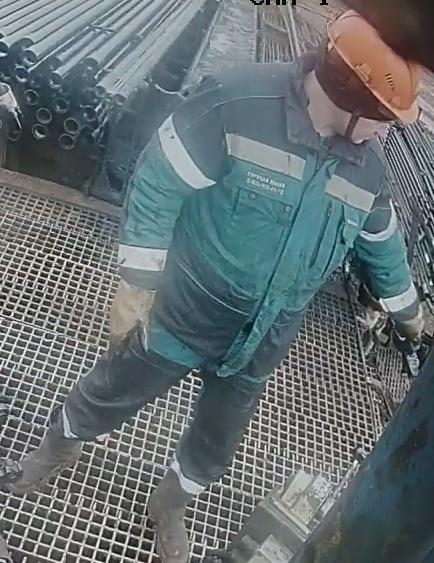gloves: (104, 277, 160, 367), (392, 301, 425, 345)
helmet: (314, 8, 421, 126)
vest: (144, 55, 390, 380)
